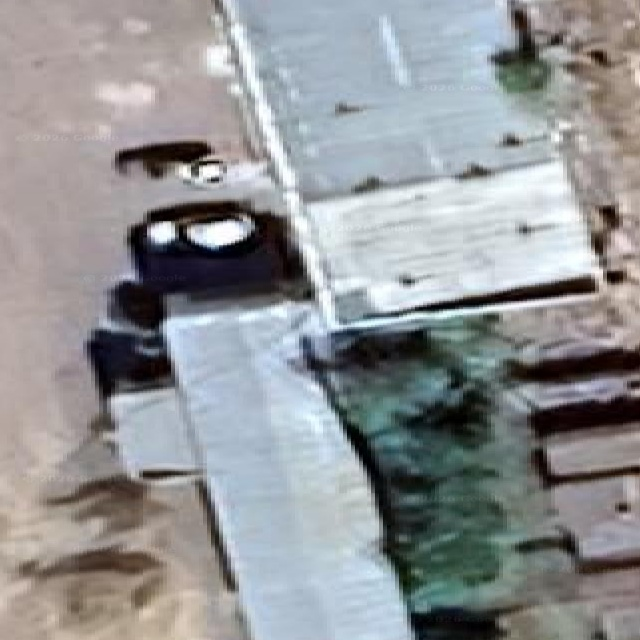car: (128, 201, 280, 292), (84, 275, 171, 396), (114, 140, 267, 187), (84, 327, 171, 396), (114, 140, 212, 178), (108, 276, 164, 333), (412, 606, 504, 639), (178, 155, 266, 187), (184, 213, 256, 251)
